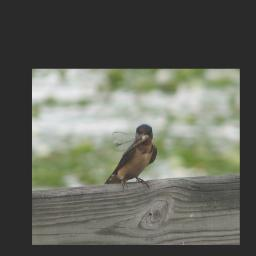Swallow: (103, 124, 158, 193)
